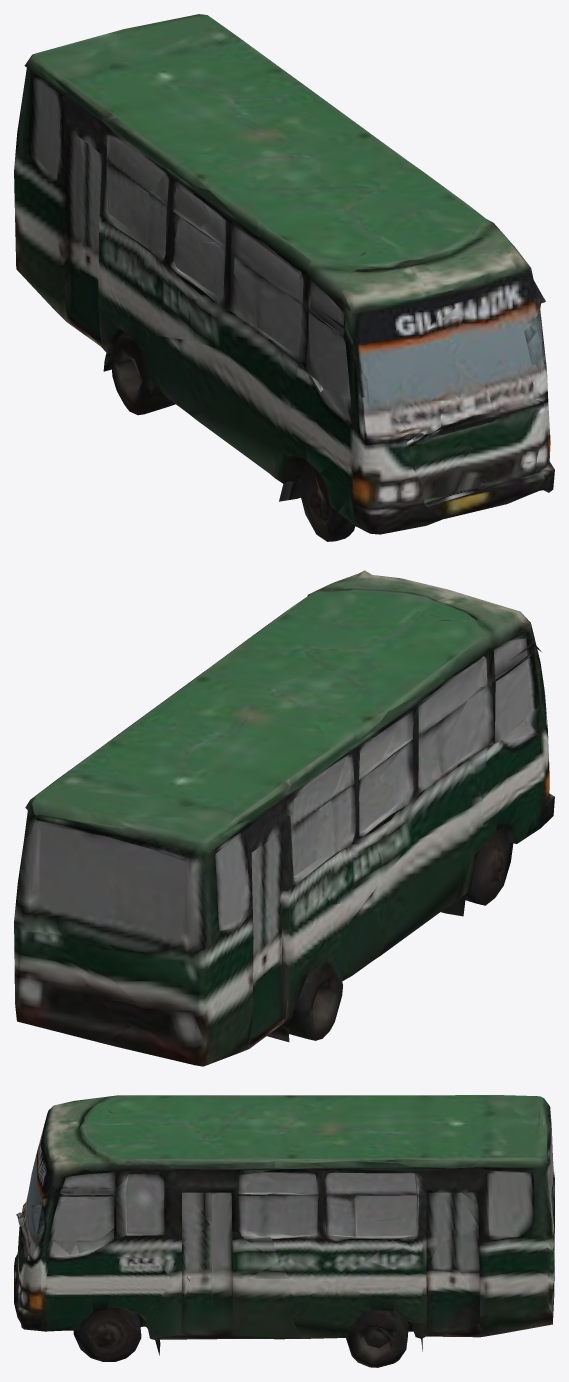
The model's file is bis_mini_lod2.glb.
The picture shows the model from 3 angles, top to bottom: view 1: azimuth 30°, elevation 25°; view 2: azimuth 150°, elevation 25°; view 3: azimuth 270°, elevation 25°; orthographic projection. The views are drawn at different scales.
Visible parts, largest first — view 1: tripo_node_d304d104; view 2: tripo_node_d304d104; view 3: tripo_node_d304d104.
Boxes of the visible parts, left/top/right/bottom form: tripo_node_d304d104: left=14, top=14, right=554, bottom=541; tripo_node_d304d104: left=14, top=570, right=554, bottom=1066; tripo_node_d304d104: left=14, top=1095, right=554, bottom=1367.
Bounding box in the file's own units: 31.68 × 42.38 × 99.85.
1 material, 1 textured.
